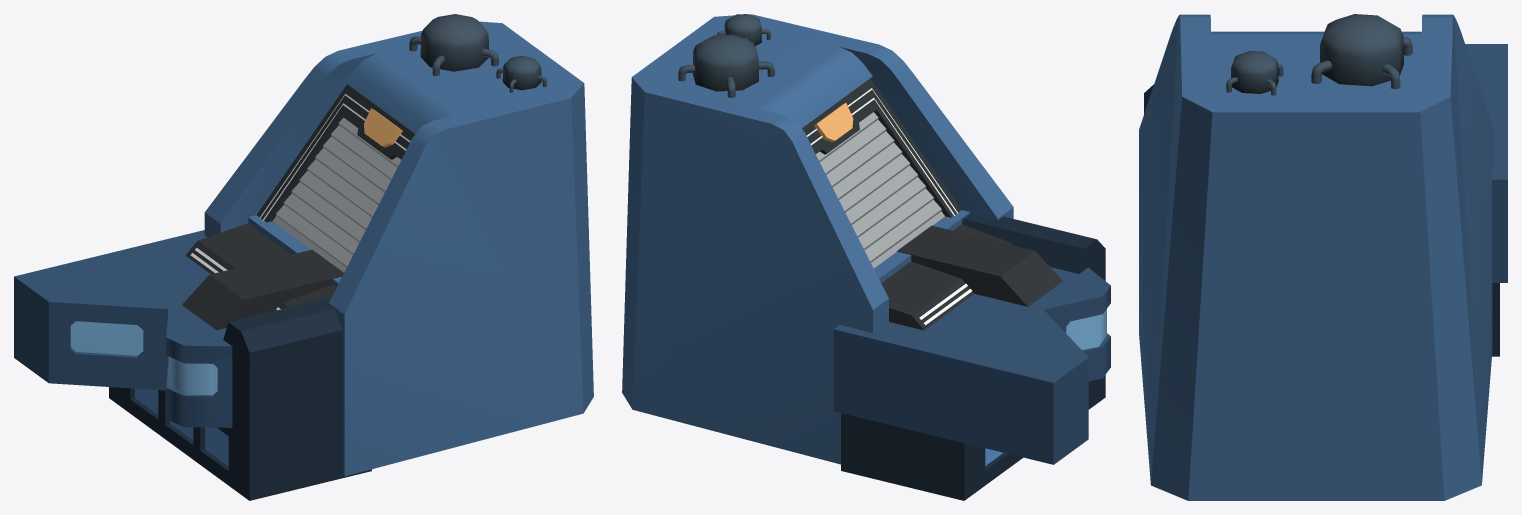
The model's file is Police_Building_01.fbx.
3 views of the same model, side by side, from view 1: azimuth 30°, elevation 25°; view 2: azimuth 150°, elevation 25°; view 3: azimuth 270°, elevation 25° (orthographic). The views are drawn at different scales.
Visible parts, largest first — view 1: Police_Building_01; view 2: Police_Building_01; view 3: Police_Building_01.
Part boxes in pixels (bbox=[...]): Police_Building_01: bbox=[14, 14, 593, 500]; Police_Building_01: bbox=[622, 14, 1110, 500]; Police_Building_01: bbox=[1139, 14, 1507, 500].
Bounding box in the file's own units: 45.87 × 33.55 × 25.46.
Materials: 2 (2 with a texture image).
